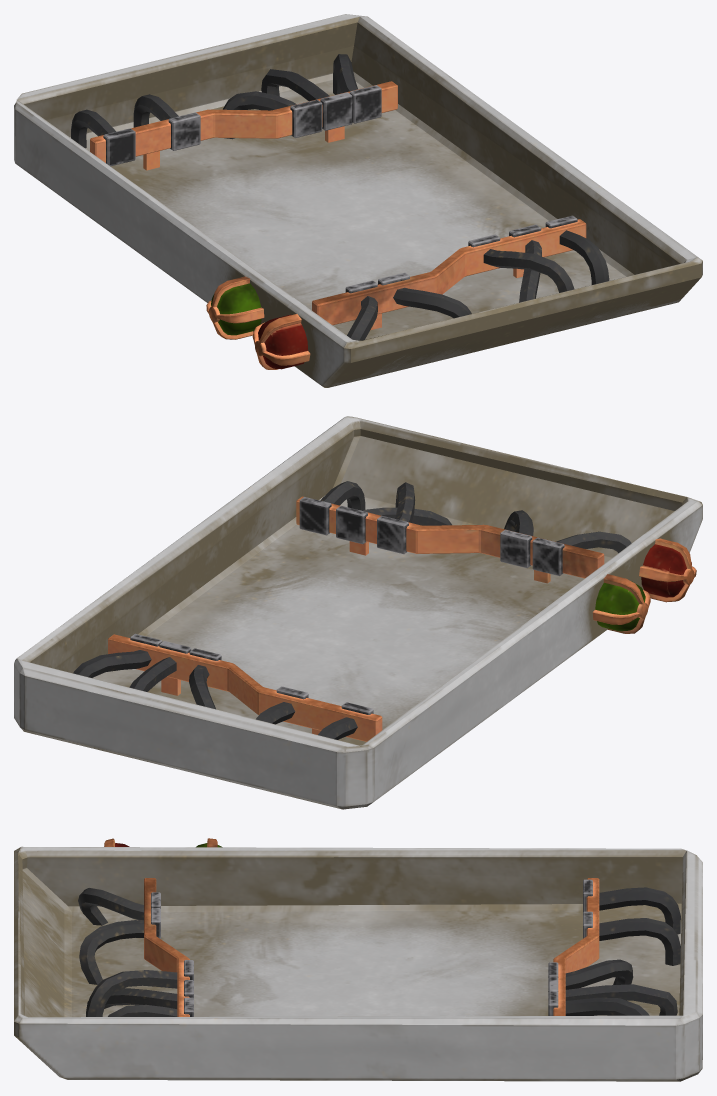
File: EletricalPannelBack.fbx
3 views of the same model, one above another, from view 1: azimuth 30°, elevation 25°; view 2: azimuth 150°, elevation 25°; view 3: azimuth 270°, elevation 25° (orthographic).
Parts seen in each view (by area): view 1: ElectricalPannel.001; view 2: ElectricalPannel.001; view 3: ElectricalPannel.001.
Part boxes in pixels (x1,y1,x2,y2): ElectricalPannel.001: (14, 14, 702, 387); ElectricalPannel.001: (14, 416, 702, 809); ElectricalPannel.001: (14, 838, 702, 1081).
Size of the model in its own units: 66.16 by 10.28 by 100.
